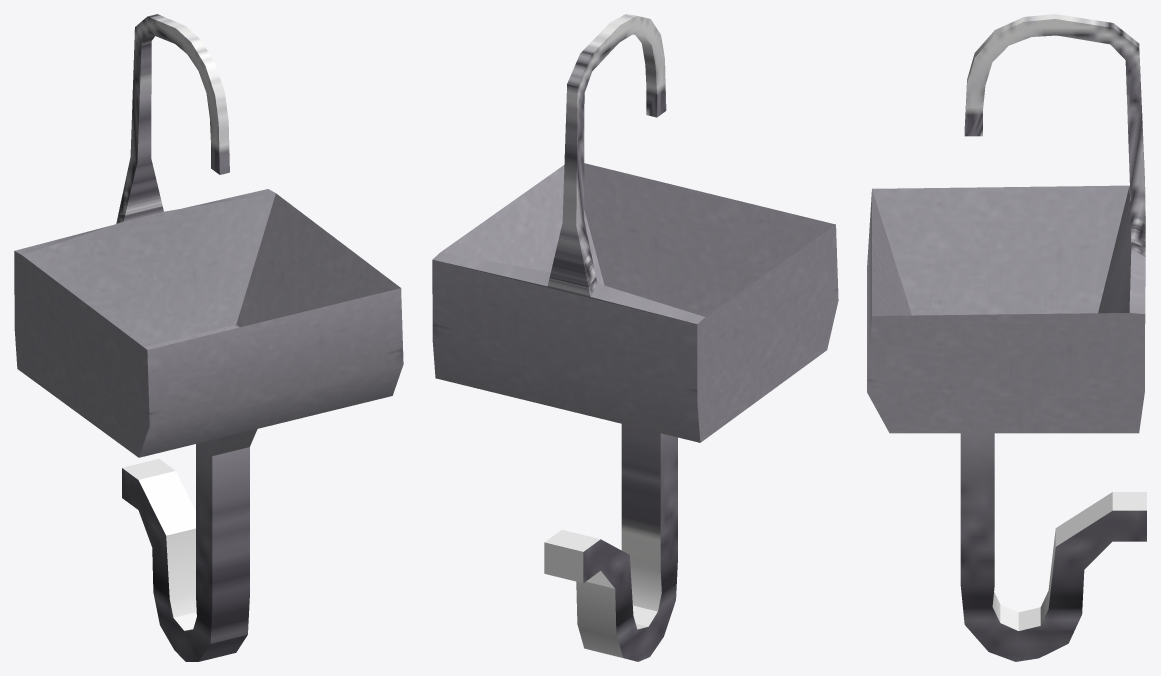
File: bathtub_sink.glb
3 renders of one model, left to right at view 1: azimuth 30°, elevation 25°; view 2: azimuth 150°, elevation 25°; view 3: azimuth 270°, elevation 25°, orthographic. The views are drawn at different scales.
Parts seen in each view (by area): view 1: Sink; view 2: Sink; view 3: Sink.
Part boxes in pixels (box(x1,y1,x2,y2)): Sink: box(14, 14, 403, 661); Sink: box(432, 14, 838, 661); Sink: box(867, 14, 1146, 661).
Size of the model in its own units: 0.5247 by 1.22 by 0.4872.
2 materials, 2 textured.
